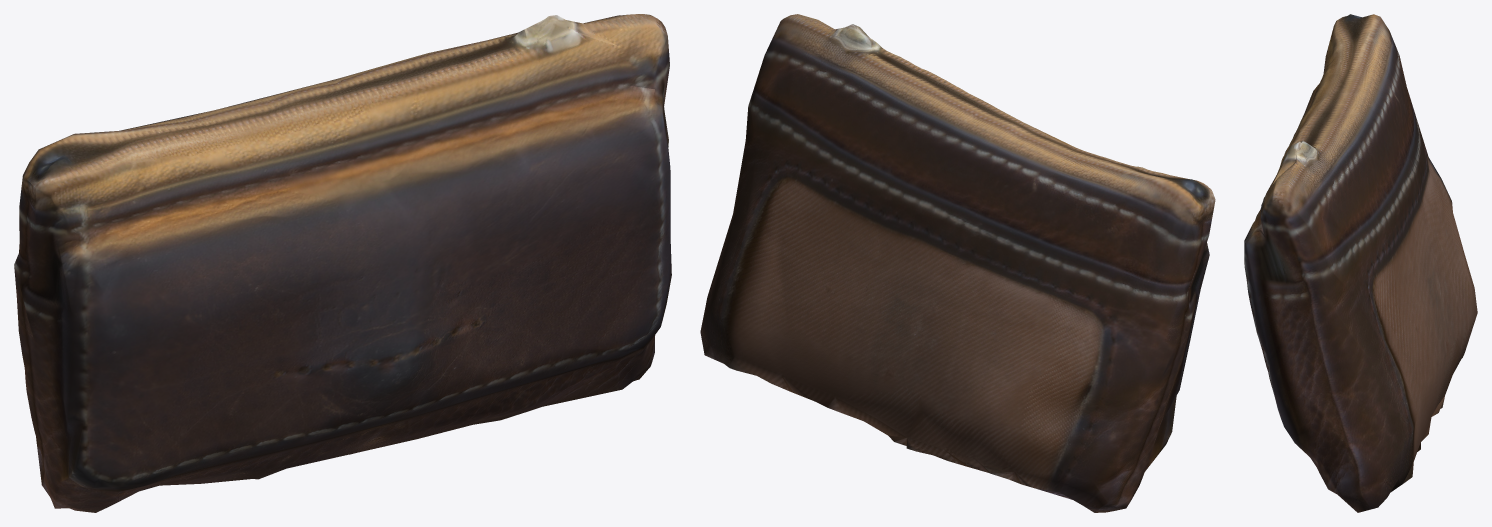
Rendered from wallet_4bc4176c10b9.glb.
3 renders of one model, left to right at view 1: azimuth 30°, elevation 25°; view 2: azimuth 150°, elevation 25°; view 3: azimuth 270°, elevation 25°, orthographic. The views are drawn at different scales.
Parts seen in each view (by area): view 1: Object_2; view 2: Object_2; view 3: Object_2.
Boxes of the visible parts, x1,y1,x2,y2 form: Object_2: [14, 14, 671, 512]; Object_2: [700, 14, 1215, 512]; Object_2: [1244, 14, 1477, 512].
Bounding box in the file's own units: 1.03 × 0.72 × 0.4342.
Materials: 1 (1 with a texture image).
